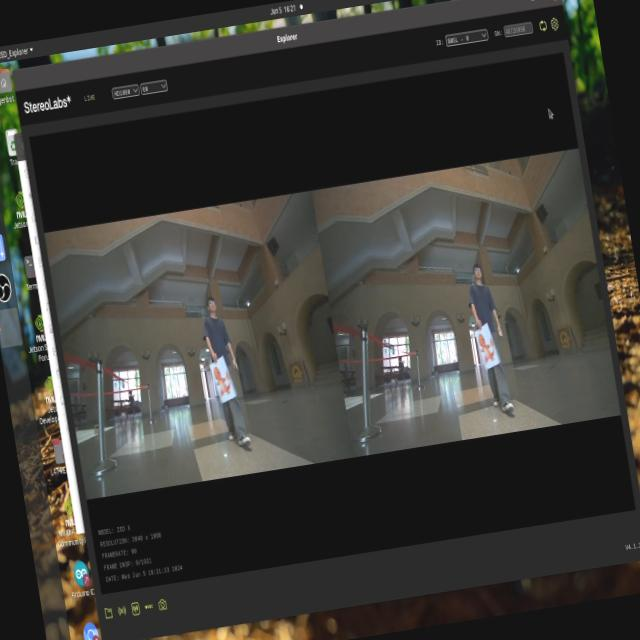red: (210, 358, 239, 402), (477, 324, 502, 368)
